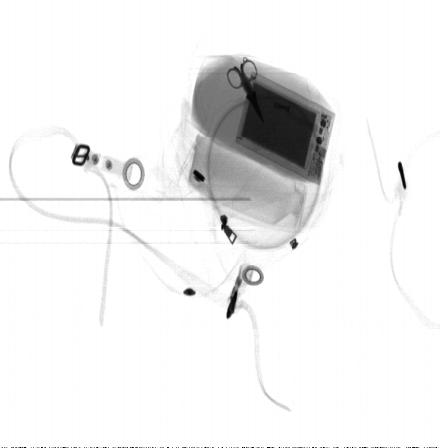Powerbank: (236, 71, 337, 186)
Scissors: (224, 55, 267, 124)
